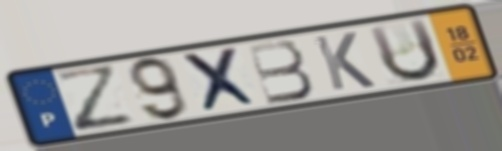9: (126, 56, 191, 124)
B: (243, 38, 317, 107)
K: (310, 30, 379, 93)
U: (364, 16, 444, 85)
X: (177, 45, 265, 116)
Z: (50, 63, 140, 136)
